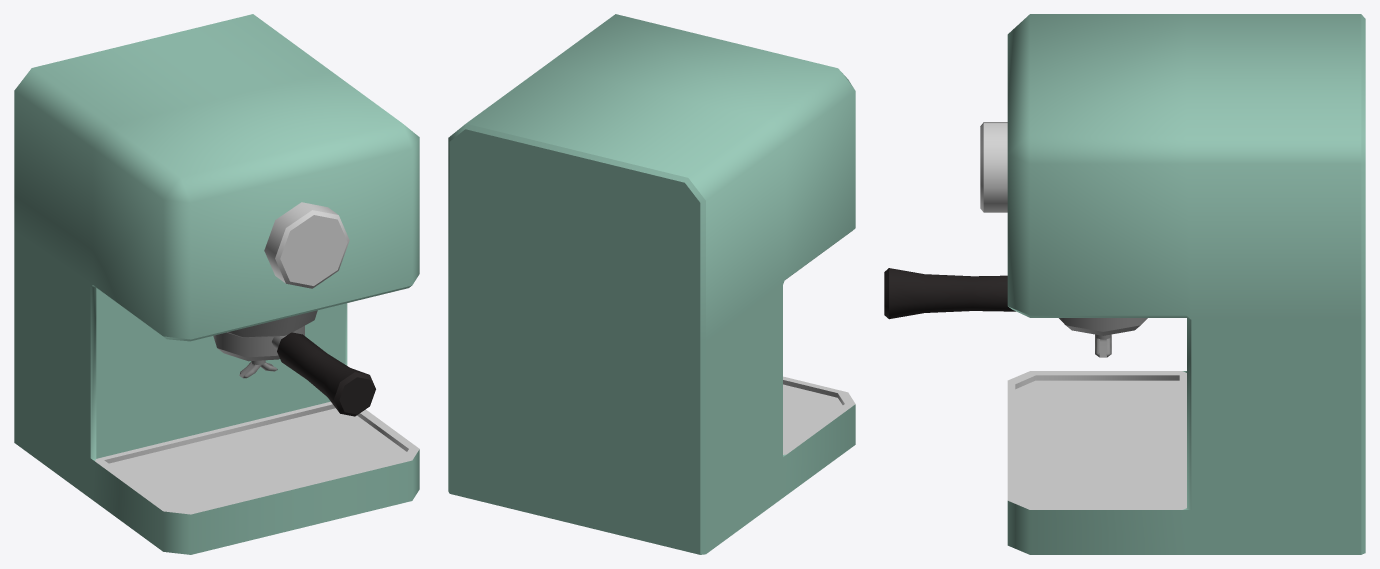
The model's file is coffee machine.FBX.
The picture shows the model from 3 angles, left to right: view 1: azimuth 30°, elevation 25°; view 2: azimuth 150°, elevation 25°; view 3: azimuth 270°, elevation 25°; orthographic projection. The views are drawn at different scales.
Visible parts, largest first — view 1: coffee machine; view 2: coffee machine; view 3: coffee machine.
Part boxes in pixels (x1,y1,x2,y2): coffee machine: (14,14,419,554); coffee machine: (448,14,855,554); coffee machine: (884,14,1365,554).
Bounding box in the file's own units: 46.5 × 64.18 × 68.05.
1 material, 1 textured.
